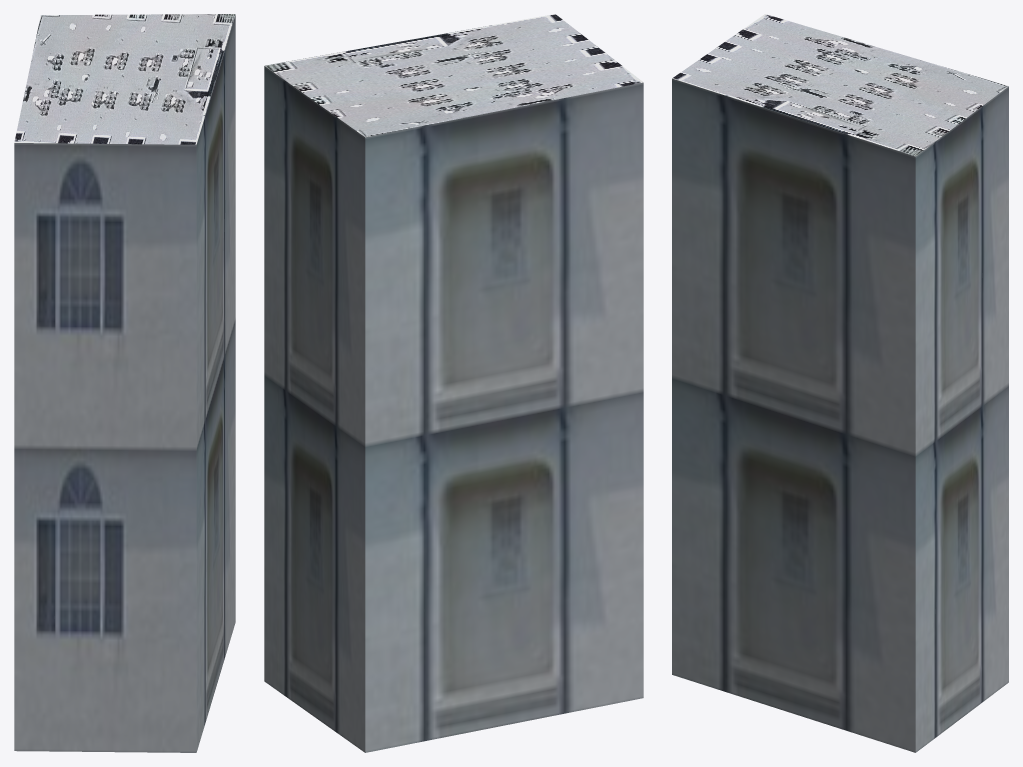
File: ResTex__2774.fbx
3 views of the same model, side by side, from view 1: azimuth 30°, elevation 25°; view 2: azimuth 150°, elevation 25°; view 3: azimuth 270°, elevation 25° (orthographic). The views are drawn at different scales.
Visible parts, largest first — view 1: CityEngineMaterial_17_m, CityEngineMaterial_m; view 2: CityEngineMaterial_17_m, CityEngineMaterial_m; view 3: CityEngineMaterial_17_m, CityEngineMaterial_m.
Boxes of the visible parts, bbox=[...] form: CityEngineMaterial_17_m: bbox=[14, 15, 235, 752]; CityEngineMaterial_m: bbox=[14, 14, 235, 144]; CityEngineMaterial_17_m: bbox=[264, 66, 643, 752]; CityEngineMaterial_m: bbox=[264, 14, 643, 137]; CityEngineMaterial_17_m: bbox=[672, 78, 1008, 752]; CityEngineMaterial_m: bbox=[672, 14, 1008, 156].
Bounding box in the file's own units: 3.08 × 6 × 3.07.
Materials: 2 (2 with a texture image).
